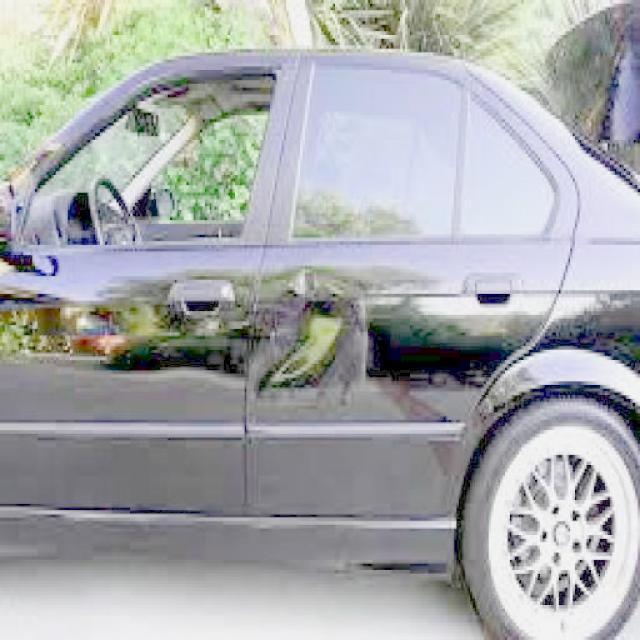car damage: (250, 261, 379, 421)
